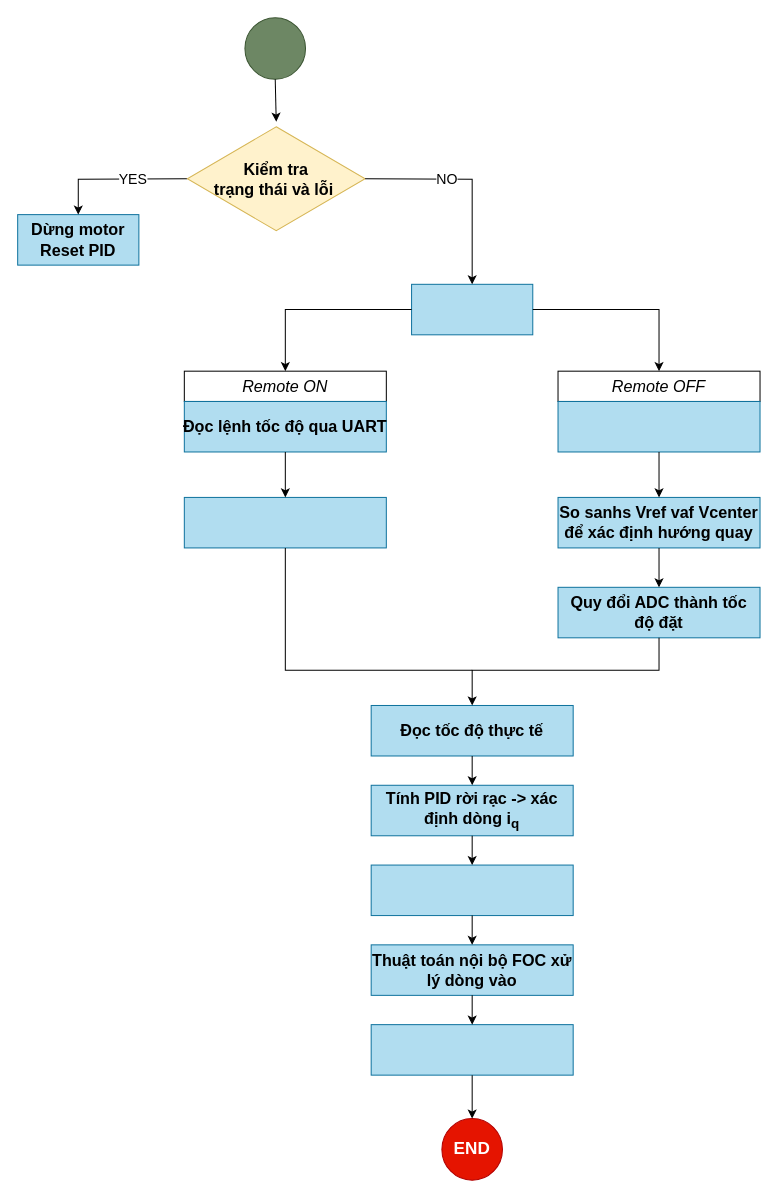
The diagram is 778 pixels wide and 1198 high, and some of its shapes have lost their labels. The box of each missing label's shape, as (x1, y1, x2, y2) in pixels:
Cập nhật thông số, reset time: (370, 1024, 573, 1075)
Gán tốc độ đặt, dựa vào dấu để xác định hướng quay: (183, 496, 386, 548)
Gửi i q đến VESC: (370, 864, 573, 916)
START: (244, 17, 306, 79)
Xác định chế độ điều khiển: (411, 283, 533, 335)
Đọc giá trị ADC qua biến trở Lọc, chuyển về 0-3,3V: (557, 400, 760, 452)
